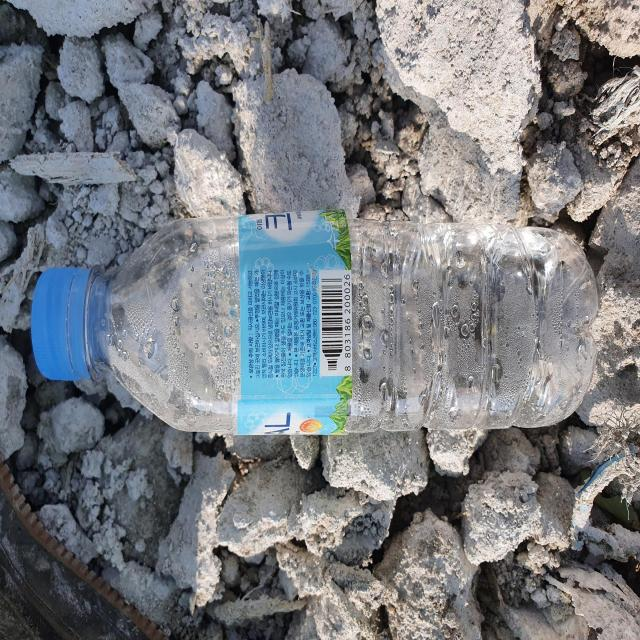plastic: (31, 209, 599, 435)
